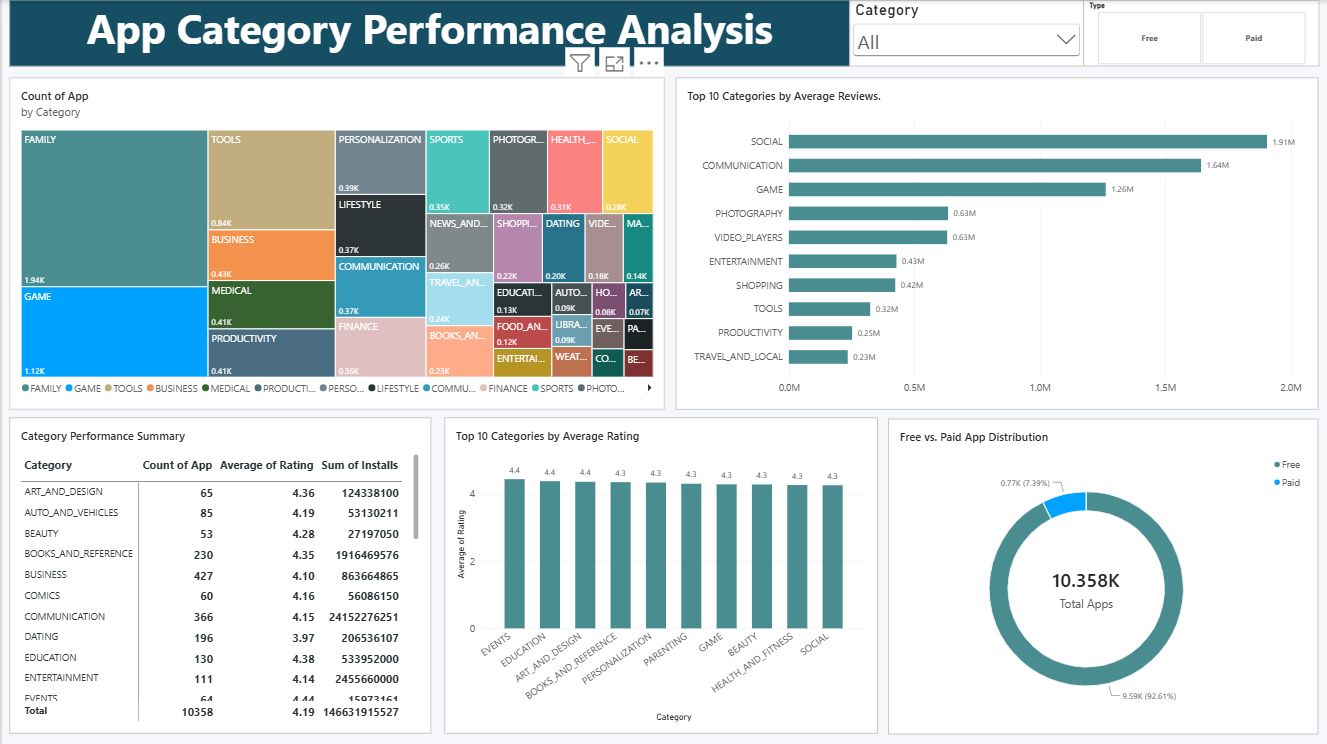

What the dashboard file says about the page in this screenshot:
{"tool":"powerbi","page":{"name":"Category Analysis","canvas":[1920,1080],"ordinal":1},"visuals":[{"type":"textbox","box":[10.4,0,1216.9,96.2],"z":0},{"type":"treemap","fields":{"Group":["apps.Category"],"Values":["CountNonNull(apps.App)"]},"box":[10.4,111.8,949.1,481],"z":1000},{"type":"clusteredBarChart","title":"Top 10 Categories by Average Reviews.","fields":{"Category":["apps.Category"],"Y":["Avg(apps.Reviews)"]},"box":[975.5,111.3,930.2,481.1],"z":2000},{"type":"pivotTable","title":"Category Performance Summary","fields":{"Rows":["apps.Category"],"Values":["CountNonNull(apps.App)","Avg(apps.Rating)","Sum(apps.Installs)"]},"box":[10,605,610,457.5],"z":3000},{"type":"clusteredColumnChart","title":"Top 10 Categories by Average Rating","fields":{"Category":["apps.Category"],"Y":["Avg(apps.Rating)"]},"box":[640,605,627.5,457.5],"z":4000},{"type":"slicer","fields":{"Values":["apps.Category"]},"box":[1226.4,0,339.6,96.2],"z":5000},{"type":"slicer","fields":{"Values":["apps.Type"]},"box":[1566,0,341.5,96.2],"z":6000},{"type":"donutChart","title":"Free vs. Paid App Distribution","fields":{"Category":["apps.Type"],"Y":["CountNonNull(apps.App)"]},"box":[1283,605.7,622.6,456.6],"z":7000}]}

Visuals, with their boxes in screenshot pixels (x1, y1, x2, y2), scaled from the page's 1920x1080 canvas onto the 1327x744 screenshot:
textbox: region(7, 0, 848, 66)
treemap - apps.Category x CountNonNull(apps.App): region(7, 77, 663, 408)
"Top 10 Categories by Average Reviews." clusteredBarChart: region(674, 77, 1317, 408)
"Category Performance Summary" pivotTable: region(7, 417, 429, 732)
"Top 10 Categories by Average Rating" clusteredColumnChart: region(442, 417, 876, 732)
slicer - apps.Category: region(848, 0, 1082, 66)
slicer - apps.Type: region(1082, 0, 1318, 66)
"Free vs. Paid App Distribution" donutChart: region(887, 417, 1317, 732)
